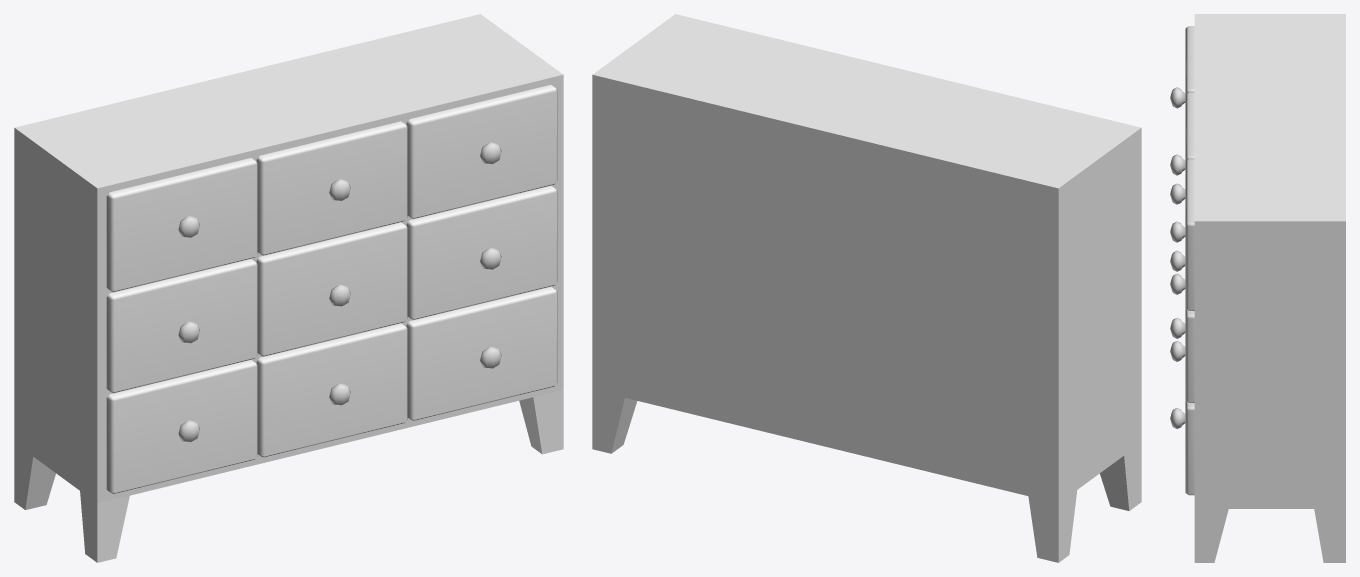
Rendered from dresser_037.fbx.
3 views of the same model, side by side, from view 1: azimuth 30°, elevation 25°; view 2: azimuth 150°, elevation 25°; view 3: azimuth 270°, elevation 25° (orthographic). The views are drawn at different scales.
Visible parts, largest first — view 1: dresser_037; view 2: dresser_037; view 3: dresser_037.
Part boxes in pixels (x1,y1,x2,y2): dresser_037: (14,14,563,562); dresser_037: (592,14,1141,562); dresser_037: (1170,14,1345,562).
Size of the model in its own units: 149 by 53.31 by 114.
